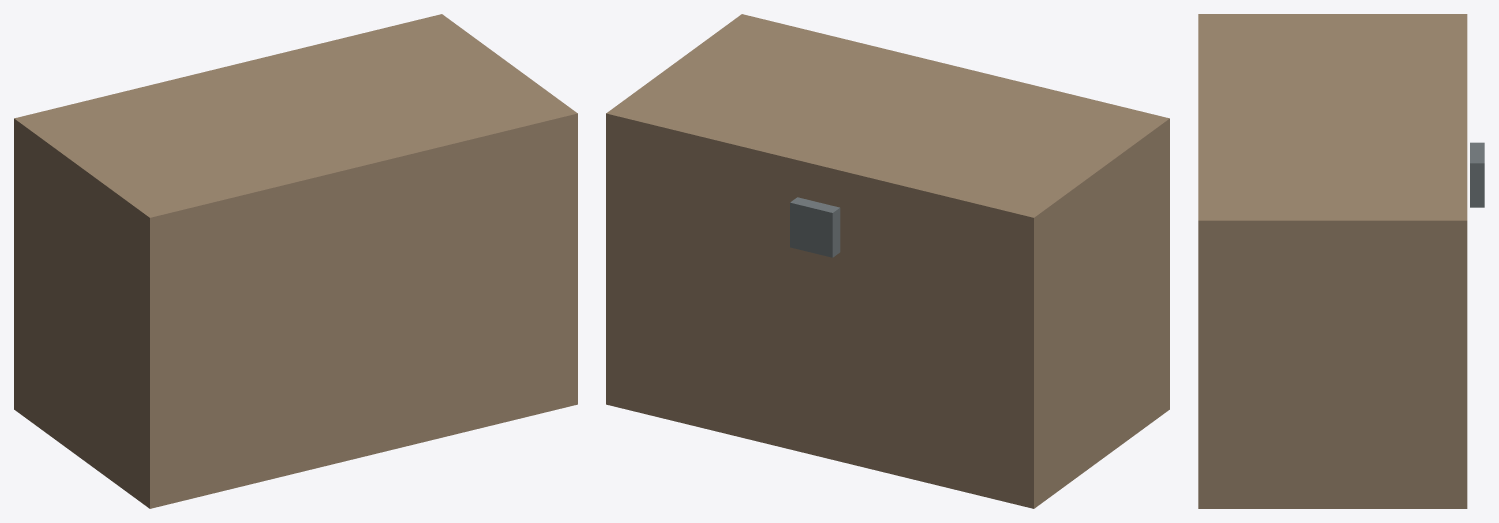
File: loot_chest_wood.glb
The picture shows the model from 3 angles, left to right: view 1: azimuth 30°, elevation 25°; view 2: azimuth 150°, elevation 25°; view 3: azimuth 270°, elevation 25°; orthographic projection.
Parts seen in each view (by area): view 1: body, lid; view 2: body, lid; view 3: body, lid.
Part boxes in pixels (x1,y1,x2,y2): body: [14, 124, 577, 508]; lid: [14, 14, 577, 228]; body: [606, 125, 1169, 508]; lid: [606, 14, 1169, 238]; body: [1198, 142, 1484, 508]; lid: [1198, 14, 1467, 242].
Size of the model in its own units: 1 by 0.65 by 0.585.
